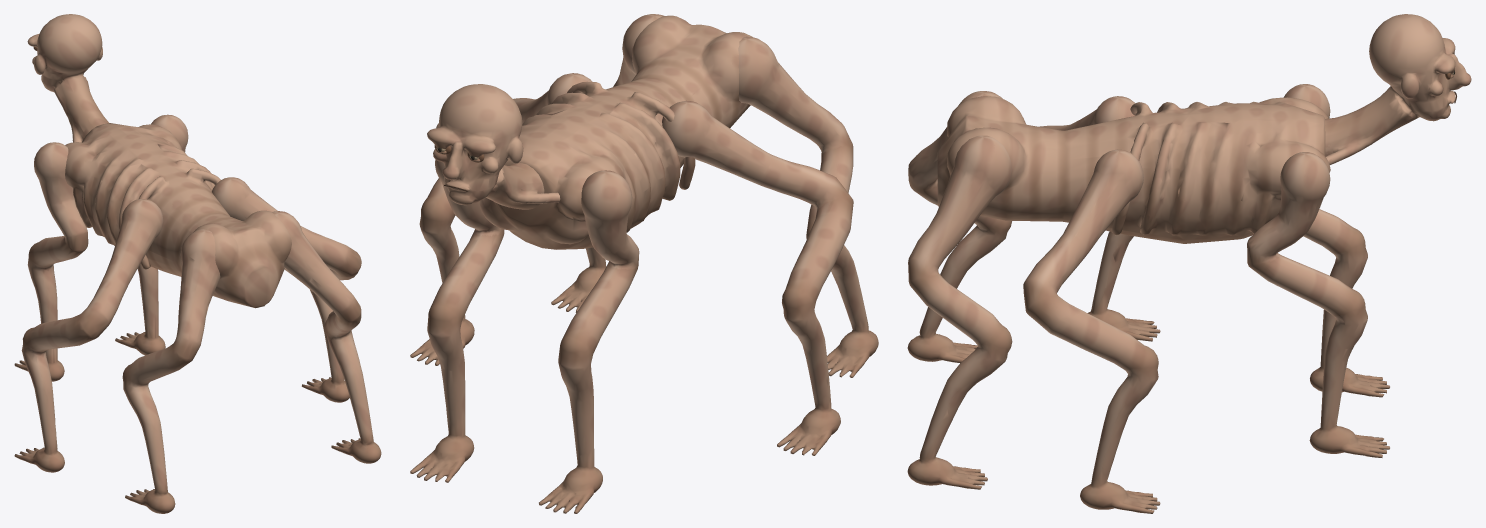
3 views of the same model, side by side, from view 1: azimuth 30°, elevation 25°; view 2: azimuth 150°, elevation 25°; view 3: azimuth 270°, elevation 25° (orthographic). The views are drawn at different scales.
Size of the model in its own units: 1.57 by 1.55 by 1.96.
Materials: 1 (1 with a texture image).
